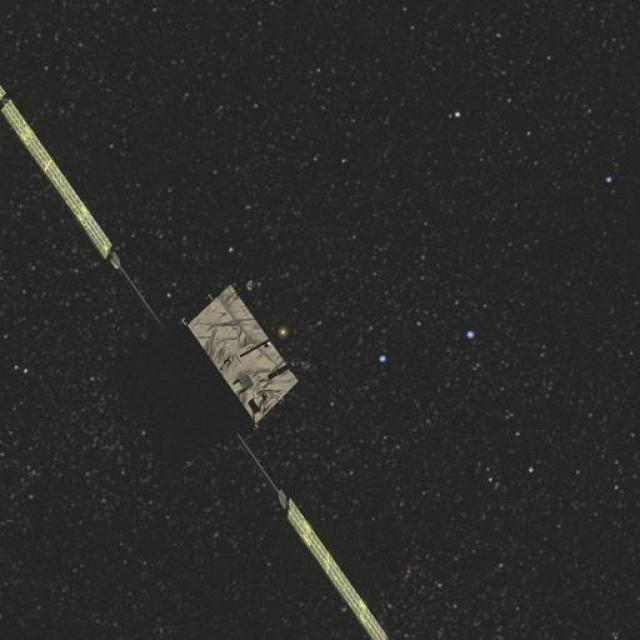smart_1: (71, 216, 339, 582)
